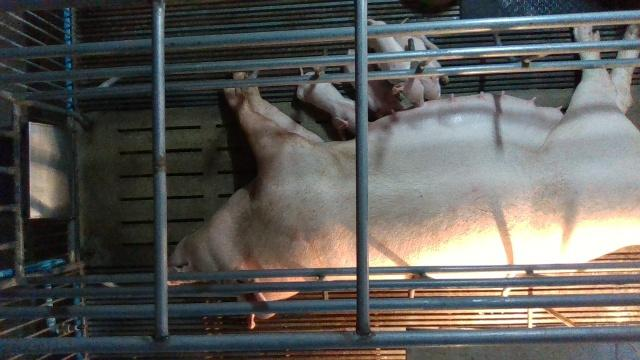piglet: (367, 18, 424, 106), (296, 67, 356, 134), (394, 36, 449, 101)
sow-sleep-lactate: (168, 27, 640, 329)
